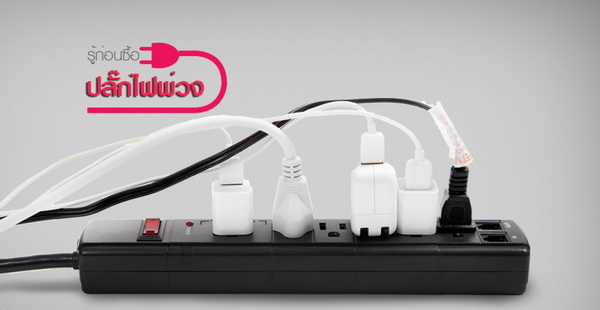Three_eye_plug: (67, 208, 535, 301)
